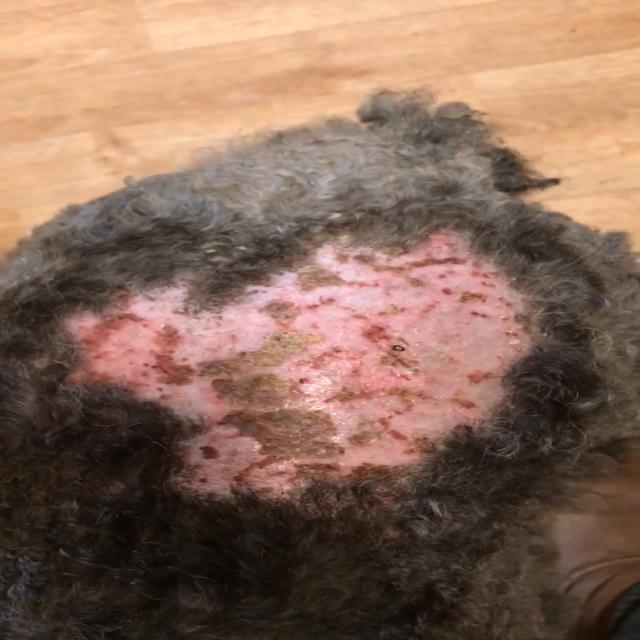allergic dermatitis: (63, 214, 541, 515)
